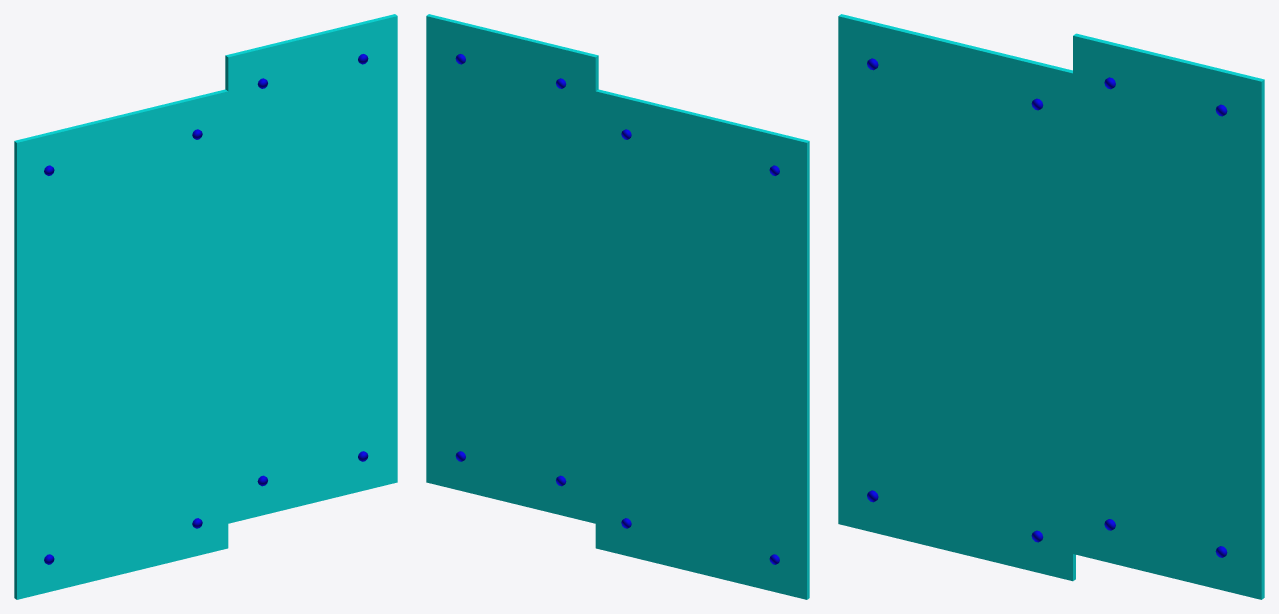
Rendered from cuadro_16_low.fbx.
3 views of the same model, side by side, from view 1: azimuth 30°, elevation 25°; view 2: azimuth 150°, elevation 25°; view 3: azimuth 330°, elevation 25° (orthographic). The views are drawn at different scales.
Parts seen in each view (by area): view 1: cuadro_izq, cuadro_der; view 2: cuadro_izq, cuadro_der; view 3: cuadro_izq, cuadro_der.
Boxes of the visible parts, x1,y1,x2,y2 form: cuadro_izq: (14, 89, 228, 599); cuadro_der: (225, 14, 397, 523); cuadro_izq: (595, 89, 809, 599); cuadro_der: (426, 14, 598, 523); cuadro_izq: (838, 14, 1075, 581); cuadro_der: (1073, 33, 1264, 599).
Bounding box in the file's own units: 80 × 98.55 × 2.
